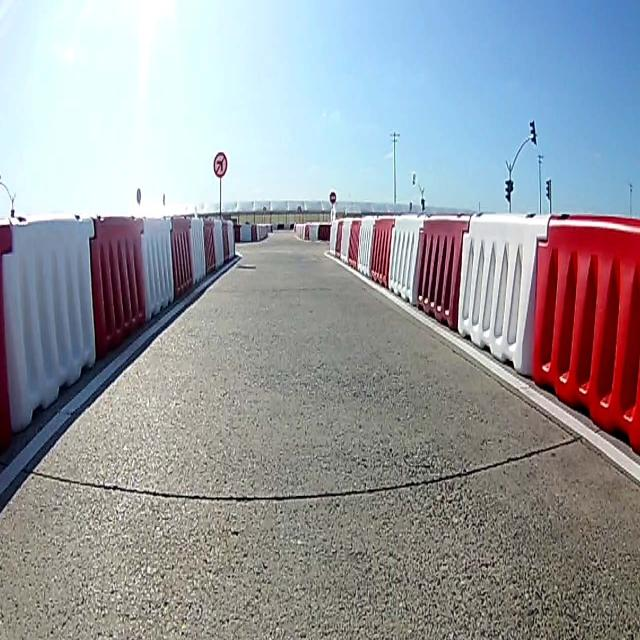girisyok: (330, 189, 336, 203)
soladonulmez: (212, 152, 227, 176)
